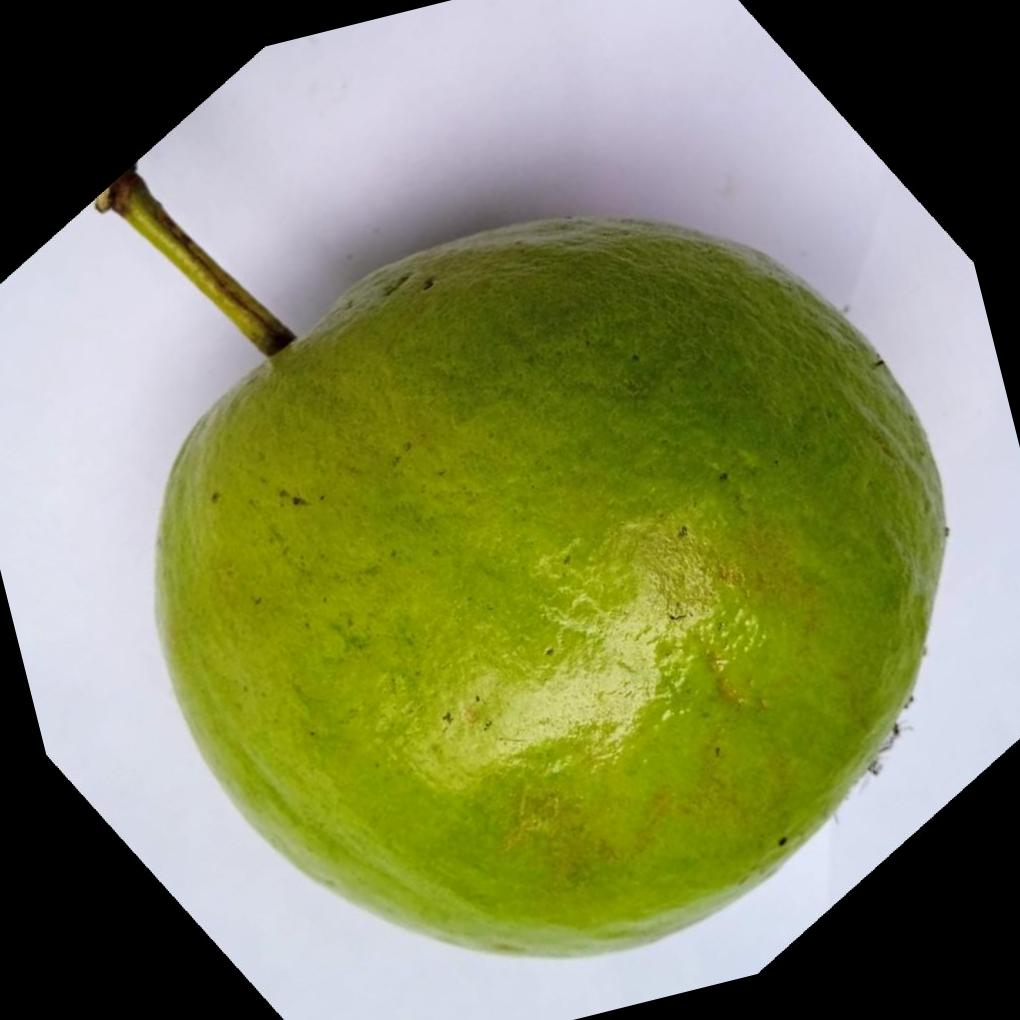FreshGuava: (152, 211, 950, 959)
